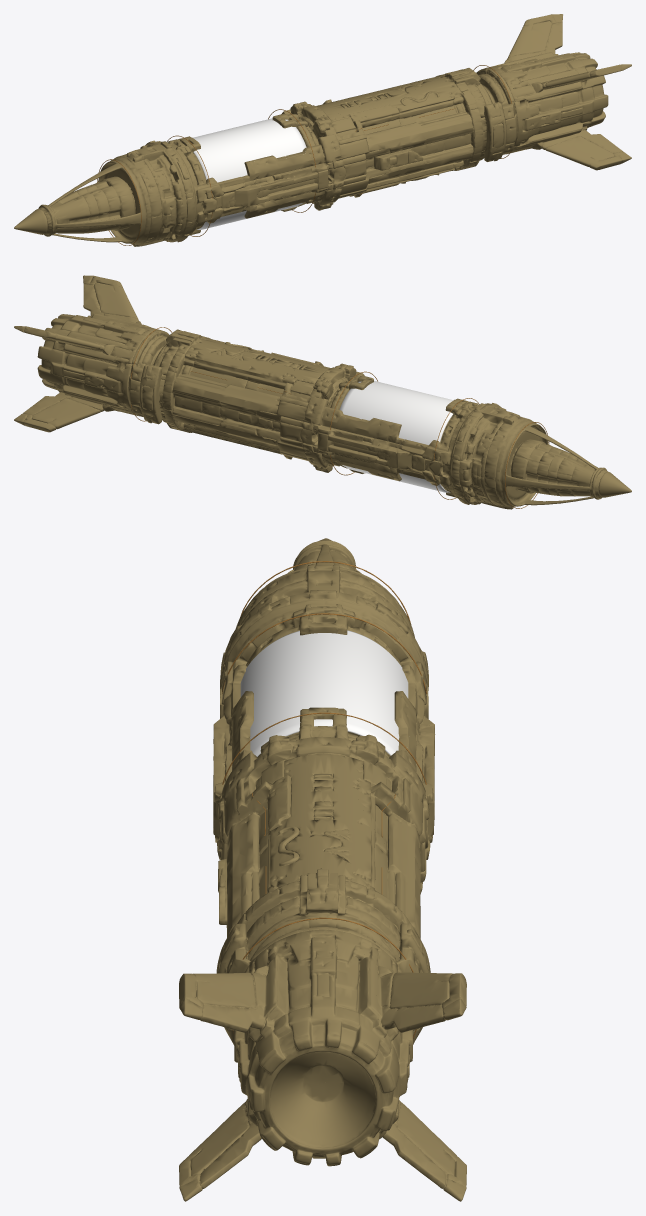
The model's file is Bullet_Optimized.fbx.
3 renders of one model, top to bottom at view 1: azimuth 30°, elevation 25°; view 2: azimuth 150°, elevation 25°; view 3: azimuth 270°, elevation 25°, orthographic. The views are drawn at different scales.
Parts seen in each view (by area): view 1: Missile_Body_LOD0, Missile_GlassShell_LOD0, Missile_LED_LOD0; view 2: Missile_Body_LOD0, Missile_GlassShell_LOD0, Missile_LED_LOD0; view 3: Missile_Body_LOD0, Missile_GlassShell_LOD0, Missile_LED_LOD0.
Boxes of the visible parts, x1,y1,x2,y2 form: Missile_Body_LOD0: (14,14,631,246); Missile_GlassShell_LOD0: (193,118,306,229); Missile_LED_LOD0: (97,65,511,245); Missile_Body_LOD0: (14,275,631,509); Missile_GlassShell_LOD0: (339,381,453,492); Missile_LED_LOD0: (130,327,549,508); Missile_Body_LOD0: (179,538,466,1201); Missile_GlassShell_LOD0: (240,630,408,756); Missile_LED_LOD0: (222,561,427,1038).
Size of what is drawn, in the model's own units: 0.9841 by 0.1626 by 0.2108.
